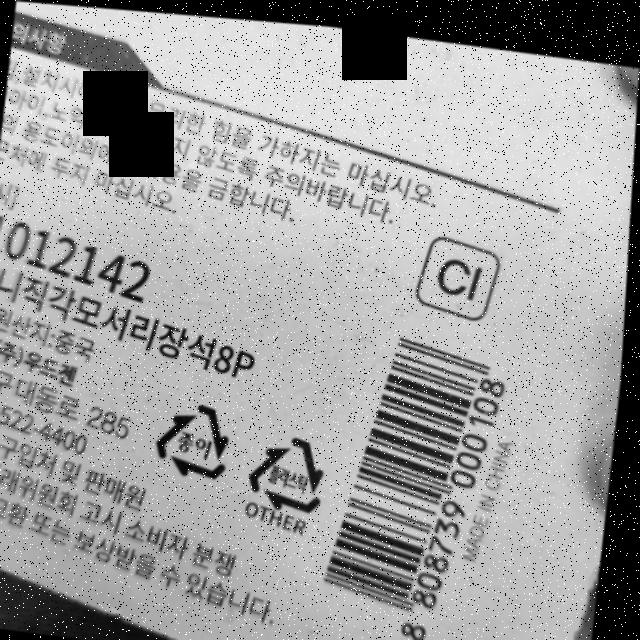Paper: (156, 392, 241, 481)
Plastic: (251, 425, 338, 511)
